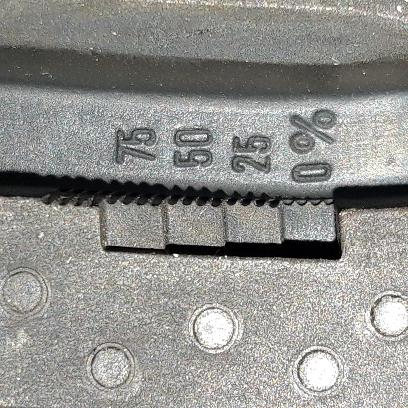temoin:100: (36, 171, 346, 265)
